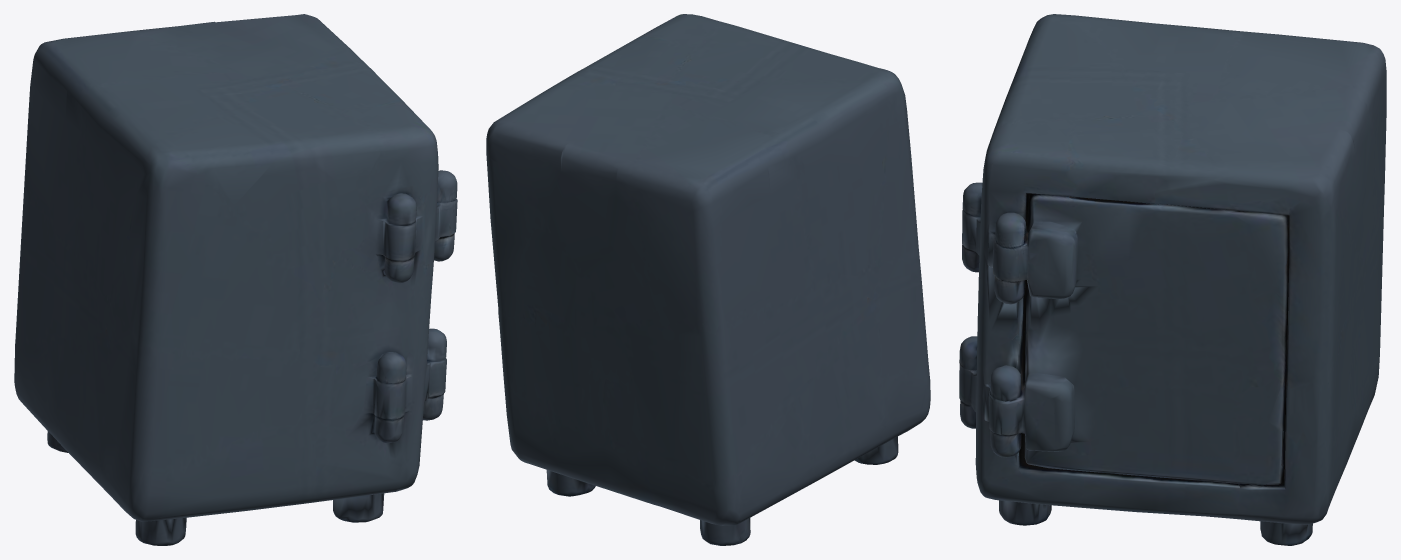
Rendered from safe.glb.
3 renders of one model, left to right at view 1: azimuth 30°, elevation 25°; view 2: azimuth 150°, elevation 25°; view 3: azimuth 270°, elevation 25°, orthographic. The views are drawn at different scales.
Parts seen in each view (by area): view 1: tripo_node_4f4436dd-e3a8-46f6-9ade-3772370ee4fc; view 2: tripo_node_4f4436dd-e3a8-46f6-9ade-3772370ee4fc; view 3: tripo_node_4f4436dd-e3a8-46f6-9ade-3772370ee4fc.
Boxes of the visible parts, box(x1,y1,x2,y2) form: tripo_node_4f4436dd-e3a8-46f6-9ade-3772370ee4fc: box(14, 14, 457, 545); tripo_node_4f4436dd-e3a8-46f6-9ade-3772370ee4fc: box(486, 14, 930, 545); tripo_node_4f4436dd-e3a8-46f6-9ade-3772370ee4fc: box(959, 14, 1386, 545).
Bounding box in the file's own units: 0.8456 × 0.9988 × 0.935.
Materials: 1 (1 with a texture image).
